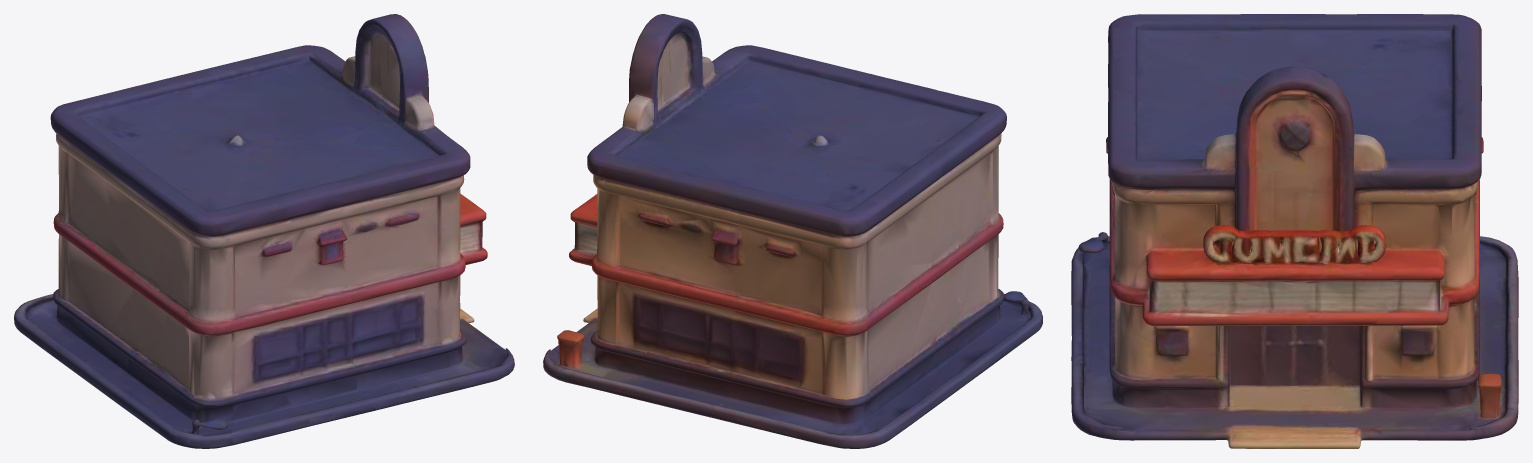
Rendered from cinema_marquee.glb.
3 views of the same model, side by side, from view 1: azimuth 30°, elevation 25°; view 2: azimuth 150°, elevation 25°; view 3: azimuth 270°, elevation 25° (orthographic). The views are drawn at different scales.
Parts seen in each view (by area): view 1: tripo_node_e548b23e-9dc5-4854-a5fa-c7d9e24ee307; view 2: tripo_node_e548b23e-9dc5-4854-a5fa-c7d9e24ee307; view 3: tripo_node_e548b23e-9dc5-4854-a5fa-c7d9e24ee307.
Boxes of the visible parts, left/top/right/bottom form: tripo_node_e548b23e-9dc5-4854-a5fa-c7d9e24ee307: left=14, top=14, right=514, bottom=448; tripo_node_e548b23e-9dc5-4854-a5fa-c7d9e24ee307: left=543, top=14, right=1042, bottom=448; tripo_node_e548b23e-9dc5-4854-a5fa-c7d9e24ee307: left=1071, top=14, right=1518, bottom=448.
Bounding box in the file's own units: 0.9504 × 0.7587 × 0.8904.
1 material, 1 textured.
